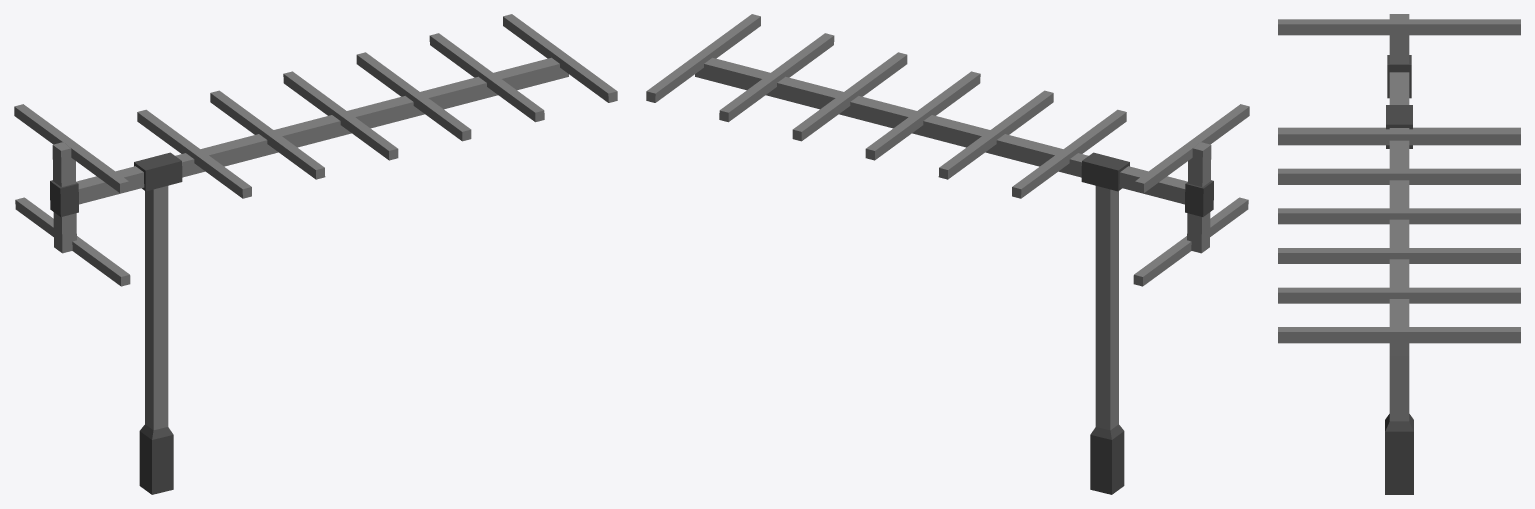
Rendered from SM_Props_Suburb_Antenna_02.fbx.
3 renders of one model, left to right at view 1: azimuth 30°, elevation 25°; view 2: azimuth 150°, elevation 25°; view 3: azimuth 270°, elevation 25°, orthographic. The views are drawn at different scales.
Visible parts, largest first — view 1: SM_Props_Suburb_Antenna_02; view 2: SM_Props_Suburb_Antenna_02; view 3: SM_Props_Suburb_Antenna_02.
Part boxes in pixels (<box>): SM_Props_Suburb_Antenna_02: <box>14,14,617,494</box>; SM_Props_Suburb_Antenna_02: <box>646,14,1249,494</box>; SM_Props_Suburb_Antenna_02: <box>1278,14,1520,494</box>.
Size of the model in its own units: 157 by 107 by 56.25.
